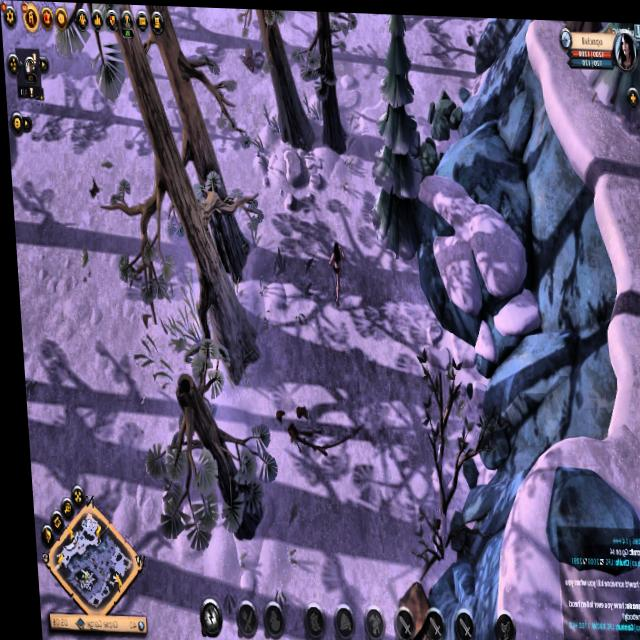sandstone: (425, 81, 463, 143), (413, 132, 441, 176)
